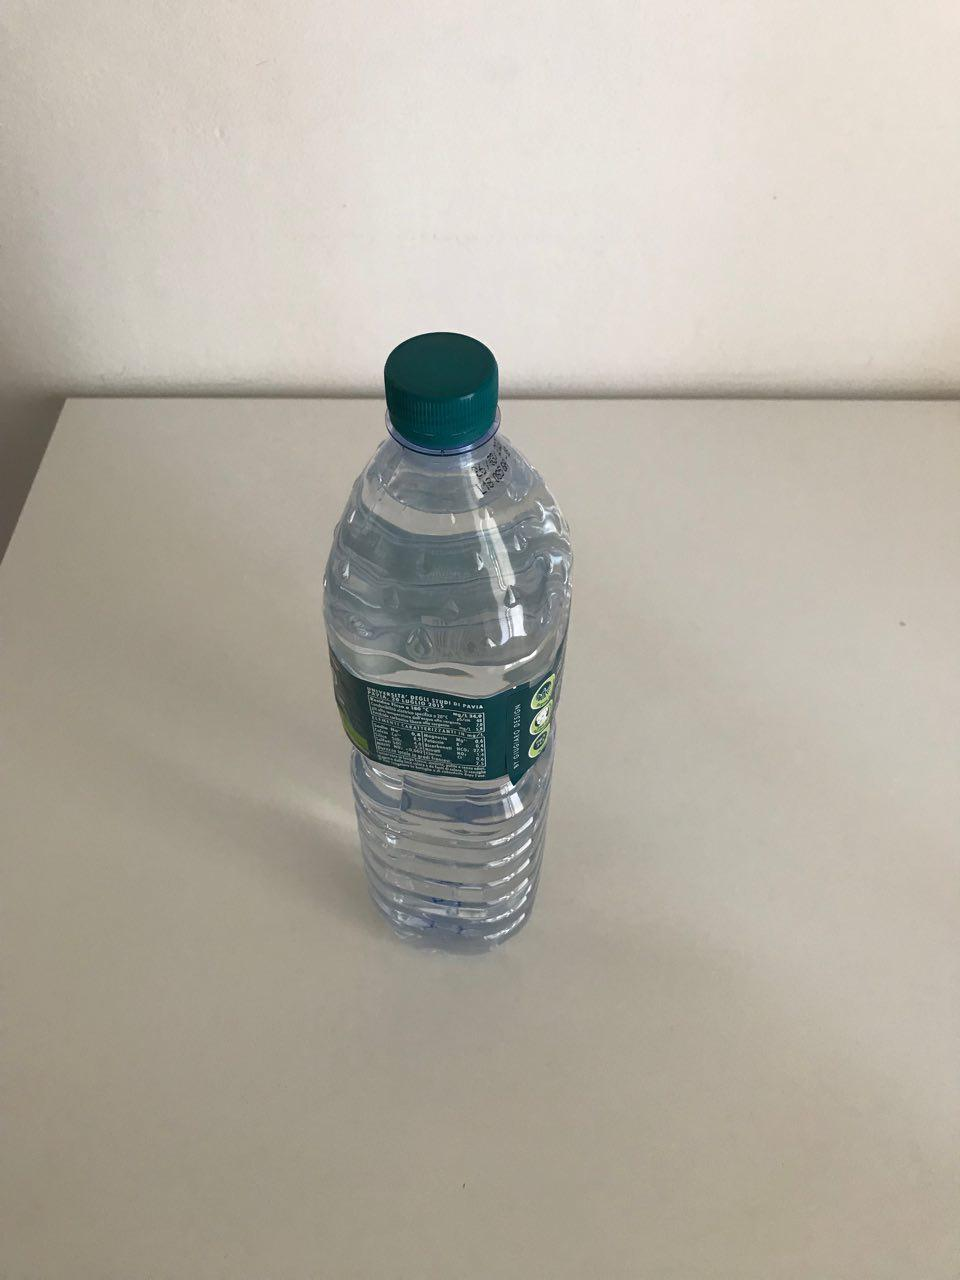san_bernardo: (320, 328, 575, 959)
